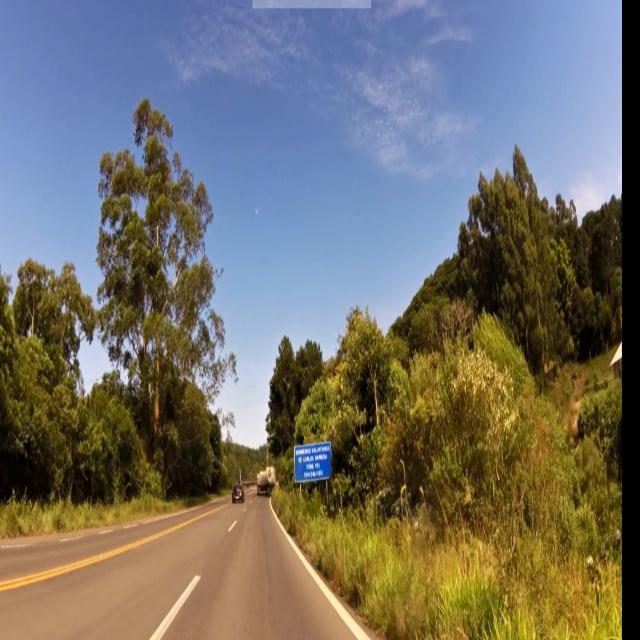LOC-6: (293, 443, 335, 480)
